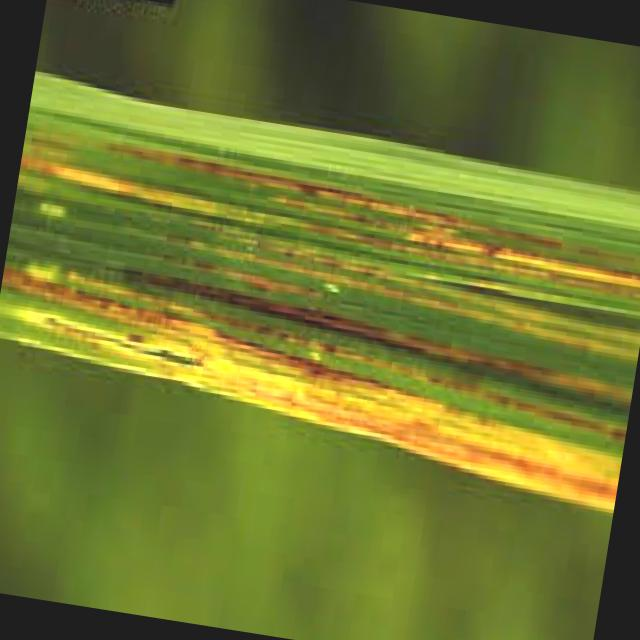leaf_blight: (0, 75, 640, 513)
